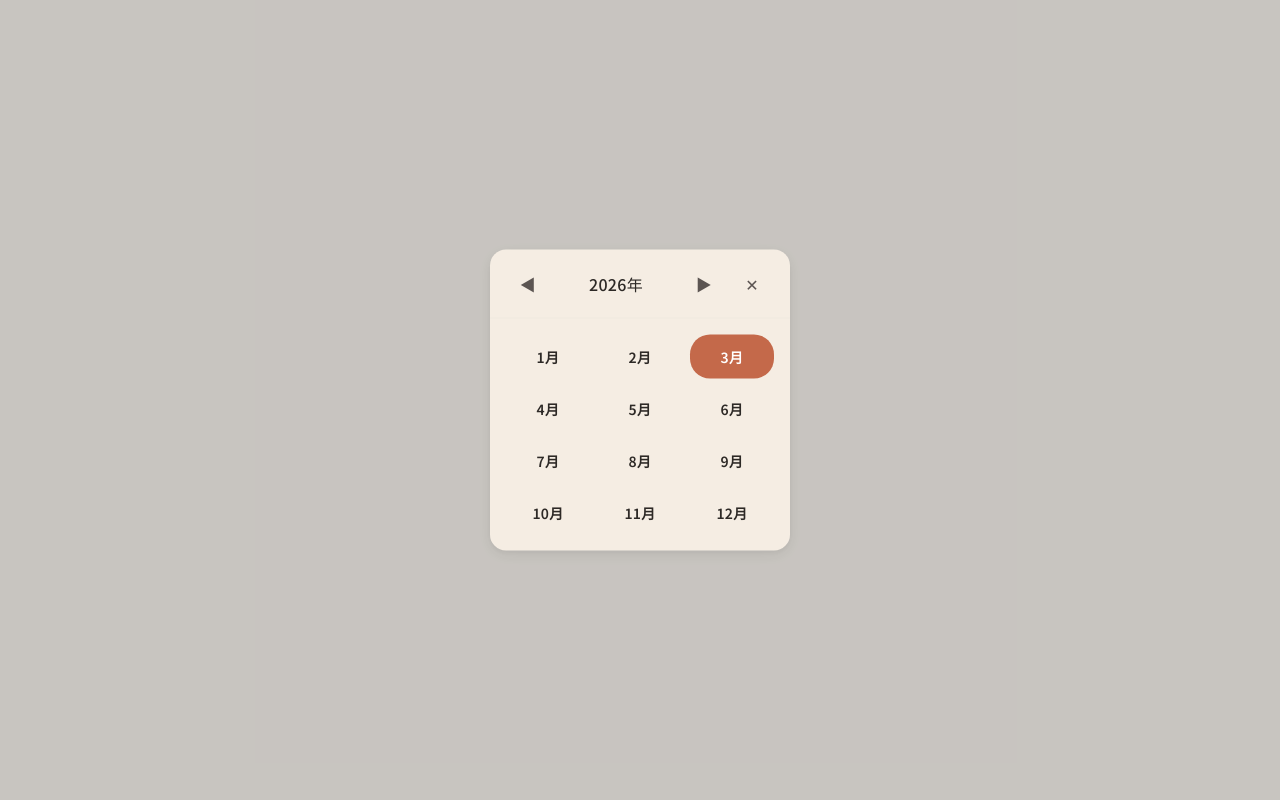
MonthPicker › navigates to next year
Click the button "▶".
click(704, 284)  # box [682, 262, 726, 306]
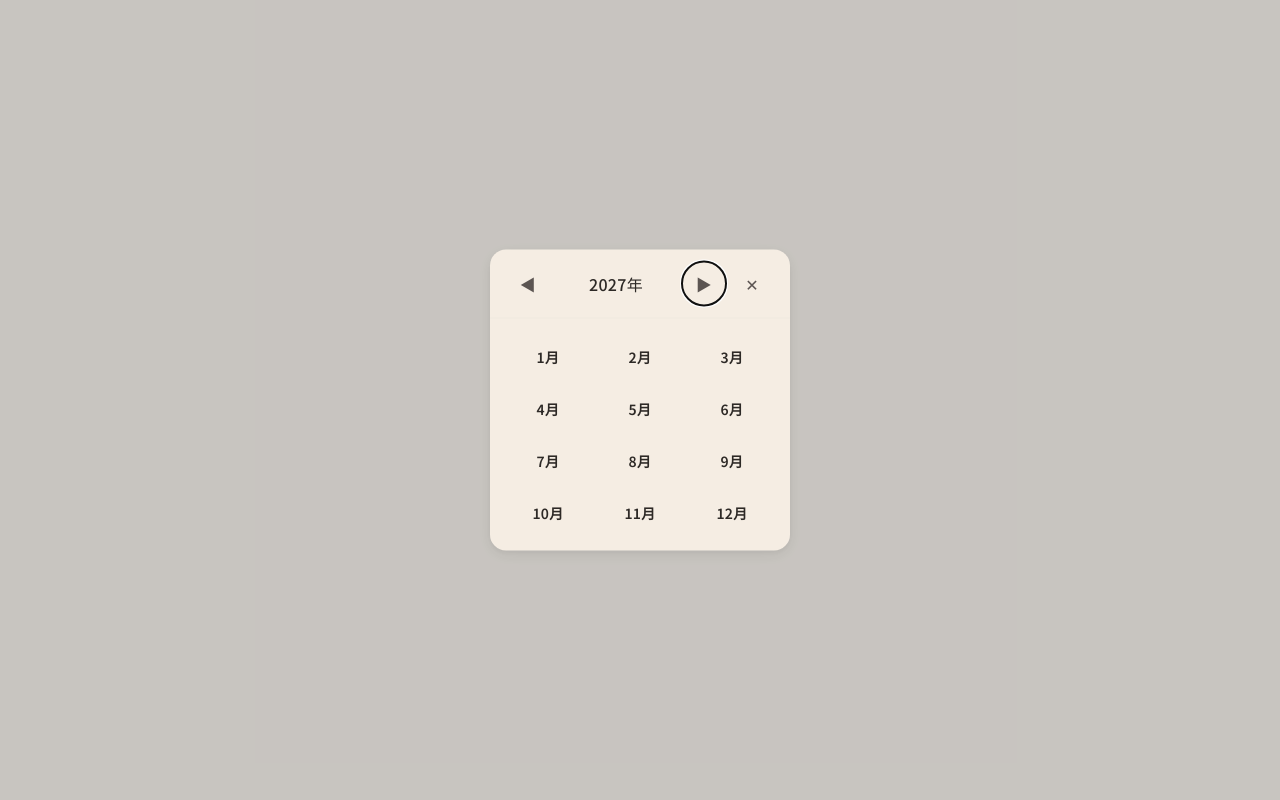
expect the text "2027年" is shown: met, box [589, 272, 643, 296]
